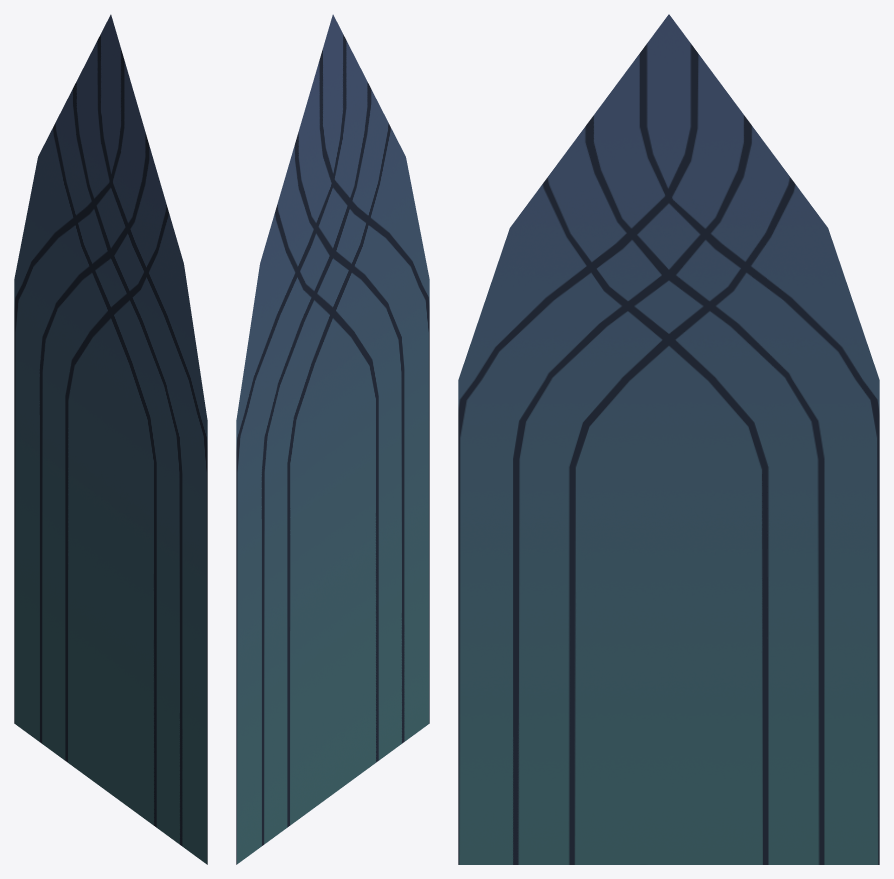
Rendered from SM_Bld_Window_Tall_01a_Glass.fbx.
The picture shows the model from 3 angles, left to right: view 1: azimuth 30°, elevation 25°; view 2: azimuth 150°, elevation 25°; view 3: azimuth 270°, elevation 25°; orthographic projection. The views are drawn at different scales.
Parts seen in each view (by area): view 1: SM_Bld_Window_Tall_01a_Glass; view 2: SM_Bld_Window_Tall_01a_Glass; view 3: SM_Bld_Window_Tall_01a_Glass.
Part boxes in pixels (left/top/right/bottom): SM_Bld_Window_Tall_01a_Glass: left=14, top=14, right=207, bottom=864; SM_Bld_Window_Tall_01a_Glass: left=236, top=14, right=429, bottom=864; SM_Bld_Window_Tall_01a_Glass: left=458, top=14, right=879, bottom=864.
Bounding box in the file's own units: 5.43e-06 × 163 × 364.
Materials: 1 (1 with a texture image).
